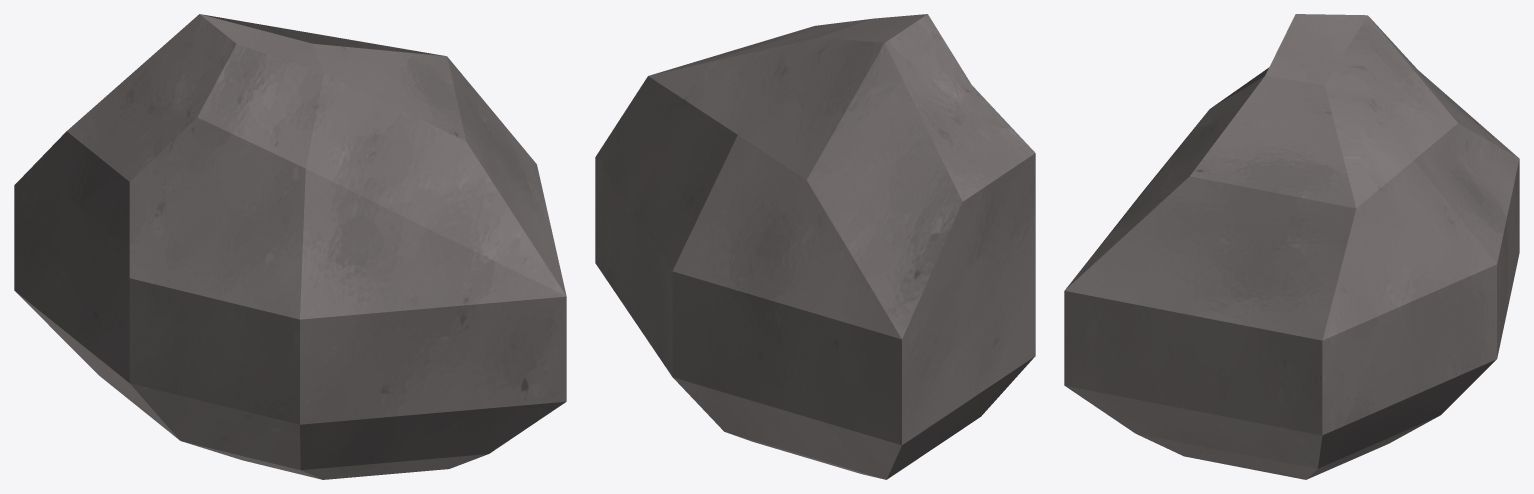
File: Stone_ver7.fbx
3 renders of one model, left to right at view 1: azimuth 30°, elevation 25°; view 2: azimuth 150°, elevation 25°; view 3: azimuth 270°, elevation 25°, orthographic. The views are drawn at different scales.
Visible parts, largest first — view 1: Cube.115; view 2: Cube.115; view 3: Cube.115.
Boxes of the visible parts, <box> form: Cube.115: <box>14,14,566,479</box>; Cube.115: <box>595,14,1035,479</box>; Cube.115: <box>1064,14,1519,479</box>.
Size of the model in its own units: 112 by 105 by 116.
